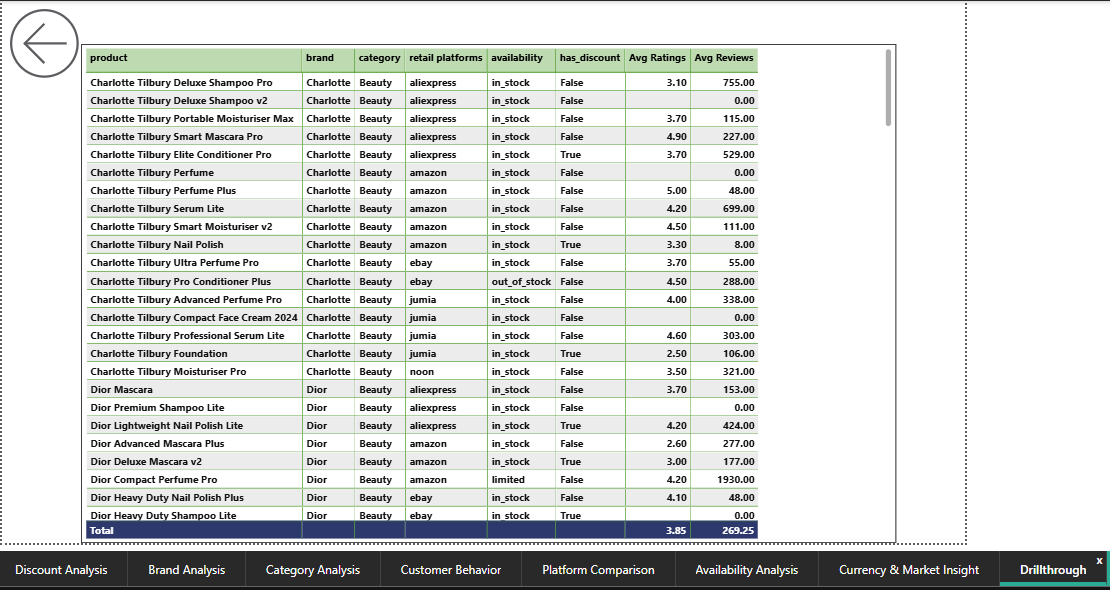

Layout of this report page (visuals, bound fields, positions):
{"tool":"powerbi","page":{"name":"Drillthrough","canvas":[1280,720],"ordinal":10},"visuals":[{"type":"actionButton","box":[0,0,171.6,112.6],"z":0},{"type":"tableEx","fields":{"Values":["ecommerce_dataset.product","ecommerce_dataset.brand","ecommerce_dataset.category","ecommerce_dataset.retail platforms","ecommerce_dataset.availability","ecommerce_dataset.has_discount","Avg(ecommerce_dataset.rating_score)","Avg(ecommerce_dataset.reviews_count)"]},"box":[105.5,57.2,1083.4,663.2],"z":1000}]}

Visuals, with their boxes on the page's 1280x720 design canvas (x1, y1, x2, y2). These are canvas units, not pixel positions in the 1110x590 screenshot, which may show the page scaled, cropped or inside an application window:
actionButton: 0:0:172:113
tableEx - ecommerce_dataset.product x ecommerce_dataset.brand: 106:57:1189:720
